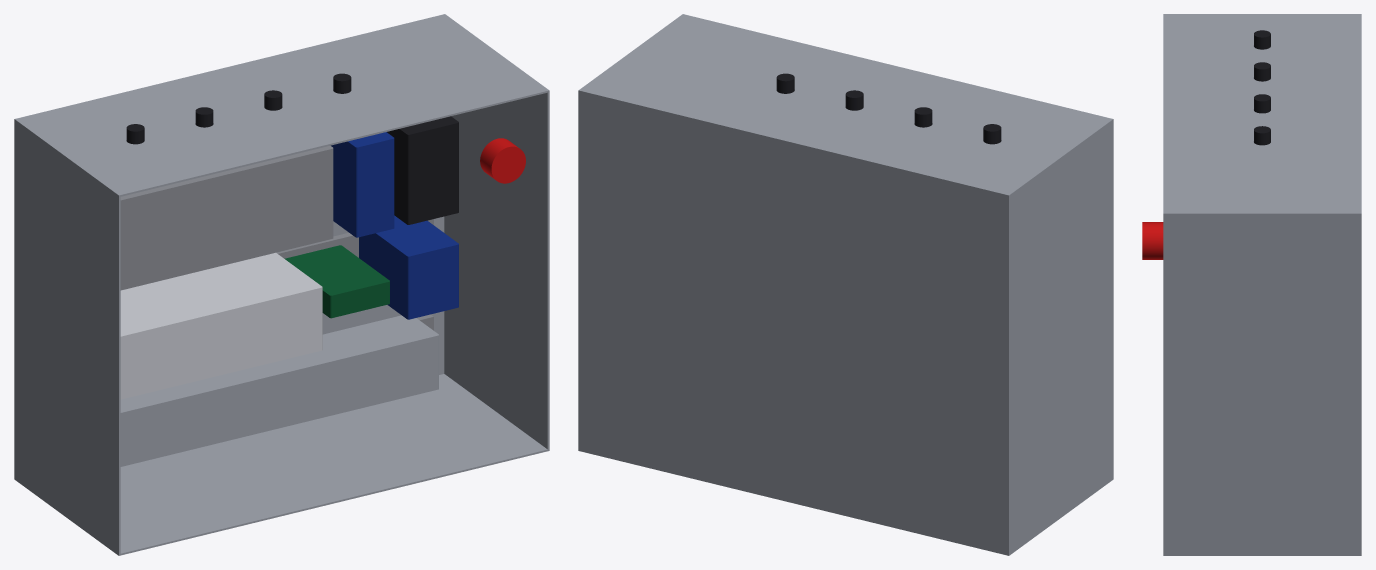
File: CONTROLLER.glb
3 views of the same model, side by side, from view 1: azimuth 30°, elevation 25°; view 2: azimuth 150°, elevation 25°; view 3: azimuth 270°, elevation 25° (orthographic). The views are drawn at different scales.
Parts seen in each view (by area): view 1: cabinet_steel_enclosure, breaker_and_terminals, ethercat_pc_fanless, psu_RSP-1500-48, io_module_estop_chain, contactor_48V, safety_relay_PNOZ_s3, odrive_S1_spindle_driver, estop_button, din_rail_1; view 2: cabinet_steel_enclosure; view 3: cabinet_steel_enclosure, estop_button, cable_gland_0, cable_gland_1, cable_gland_3, cable_gland_2.
Boxes of the visible parts, box(x1,y1,x2,y2) form: cabinet_steel_enclosure: box(14, 14, 549, 555); breaker_and_terminals: box(120, 315, 438, 466); ethercat_pc_fanless: box(120, 252, 322, 399); psu_RSP-1500-48: box(120, 145, 333, 290); io_module_estop_chain: box(359, 215, 458, 319); contactor_48V: box(387, 116, 458, 224); safety_relay_PNOZ_s3: box(331, 132, 394, 237); odrive_S1_spindle_driver: box(284, 245, 389, 318); estop_button: box(480, 138, 525, 183); din_rail_1: box(276, 219, 433, 258); cabinet_steel_enclosure: box(578, 14, 1113, 555); cabinet_steel_enclosure: box(1163, 14, 1361, 555); estop_button: box(1142, 222, 1163, 259); cable_gland_0: box(1254, 30, 1270, 49); cable_gland_1: box(1254, 62, 1270, 81); cable_gland_3: box(1254, 126, 1270, 145); cable_gland_2: box(1254, 94, 1270, 113).
Size of the model in its own units: 500 by 414 by 232.
